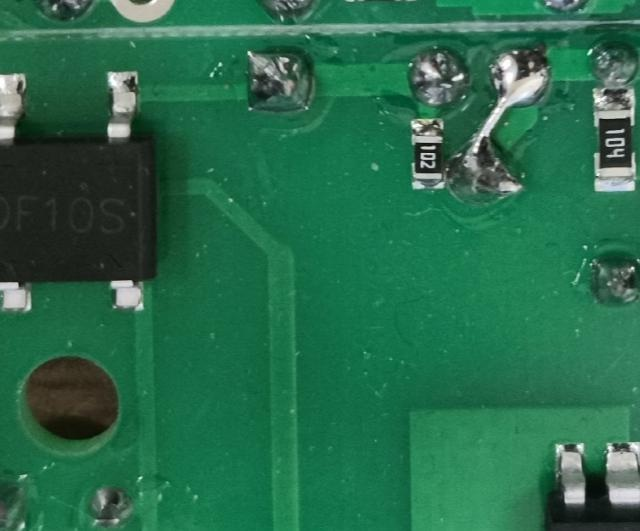chip-resistor: (592, 86, 637, 194), (410, 117, 446, 191)
ic: (0, 69, 161, 319)
